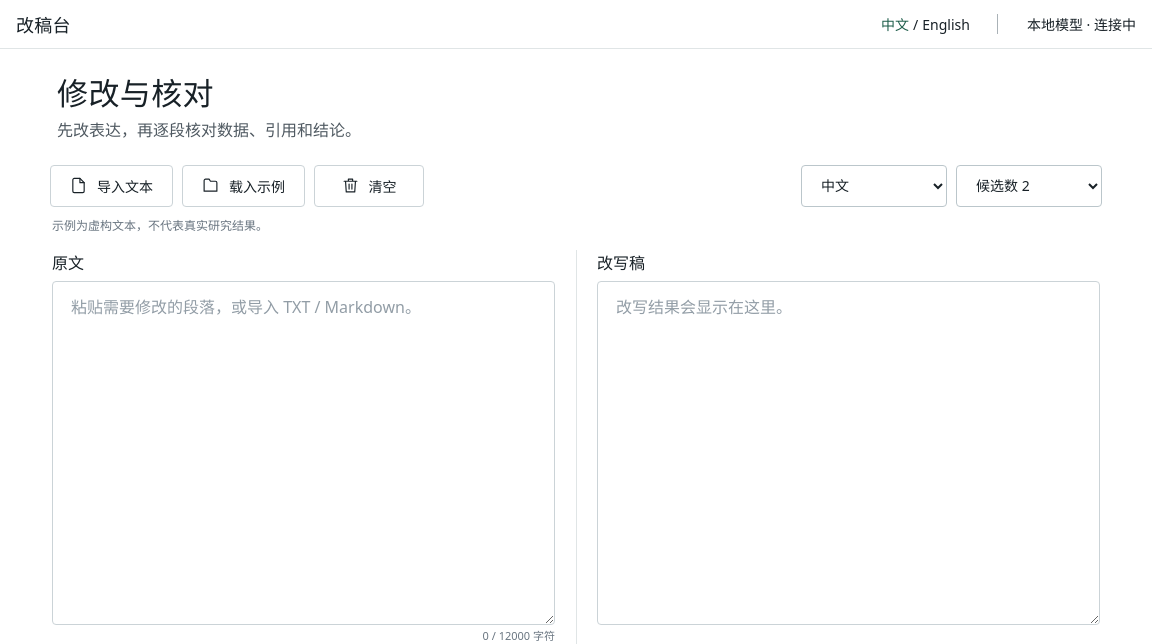
workbench behavior › shows service errors without fabricated output
Type "原文" into the text box labelled "原文".
click(304, 453); type("原文")  # box [52, 281, 555, 625]
(page scrolled)
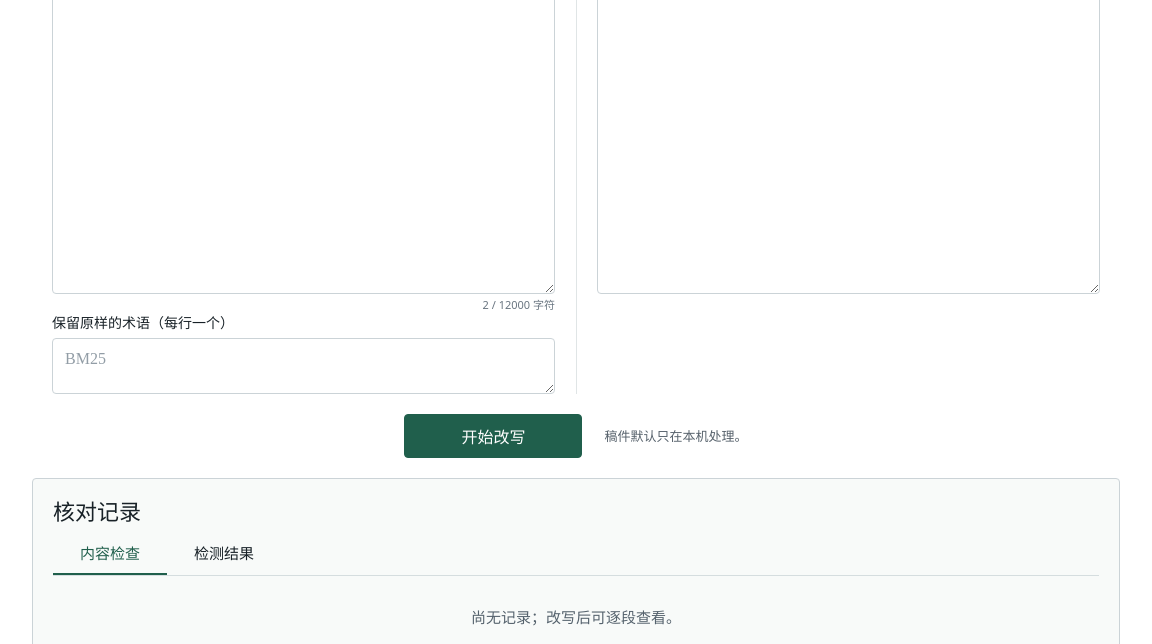
Click the button "开始改写".
click(494, 436)  # box [404, 414, 582, 458]
(page scrolled)
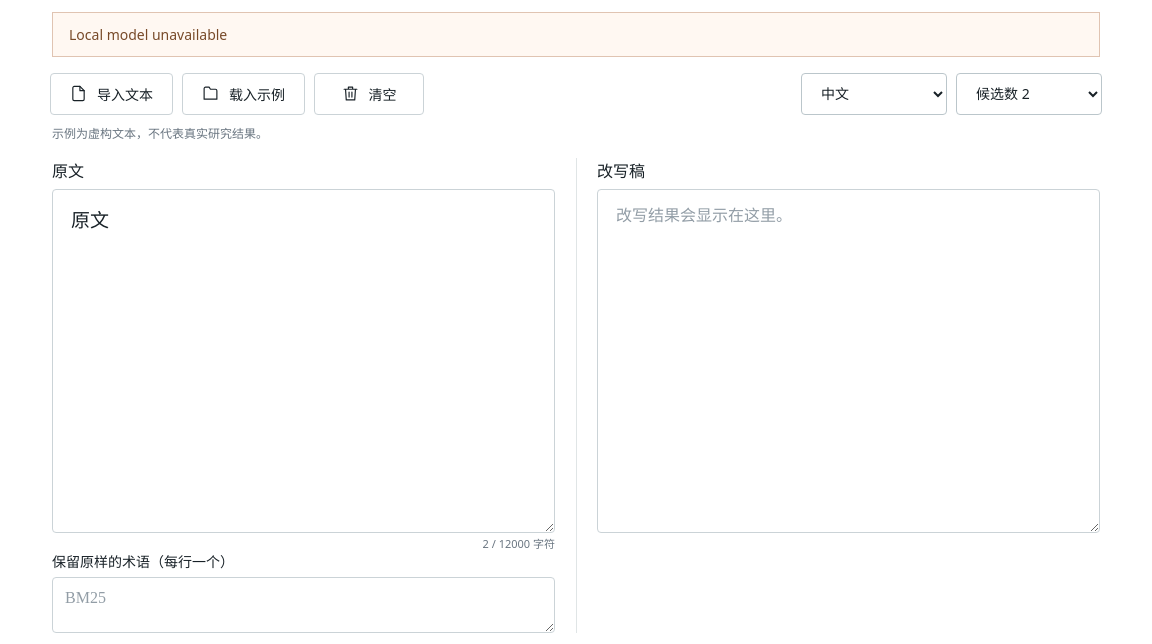
Expected: the text box labelled "改写稿" is empty, [597, 189, 1100, 533]
Now the message reads "Local model unavailable", box [69, 25, 227, 44]
